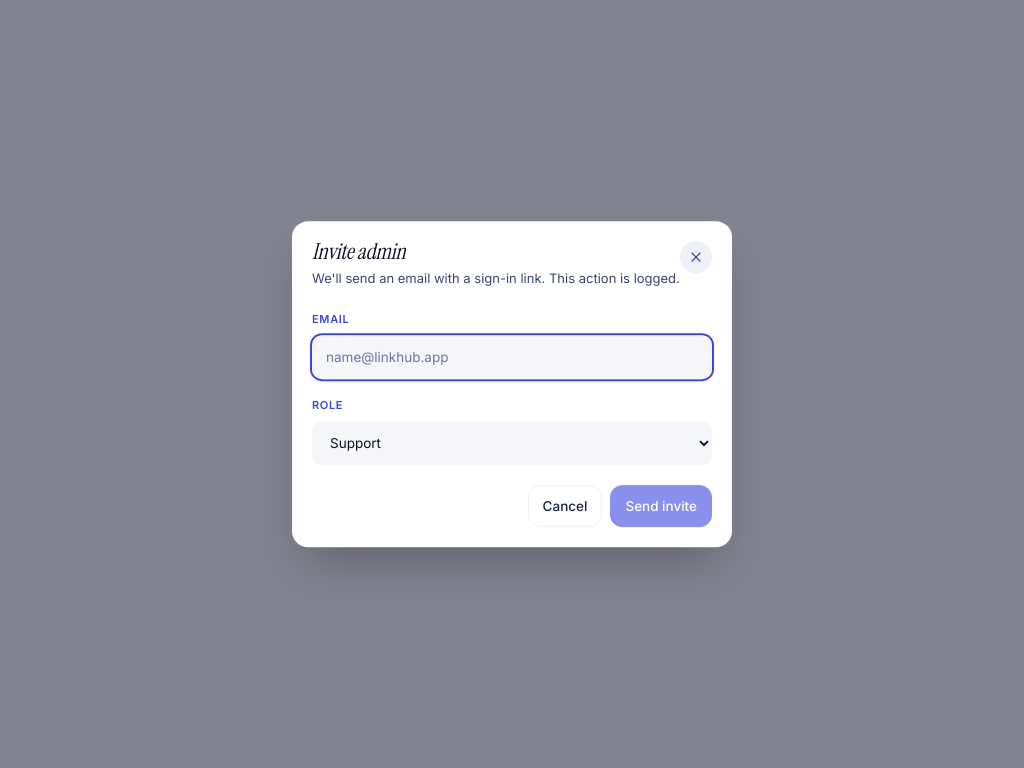
it: InviteAdminModal › disables Send invite until a valid email is entered
The width and height of the screenshot is (1024, 768).
Expected: the button "Send invite" is disabled, [610,485,712,527]
Type "not-an-email" into the field with placeholder "name@linkhub.app" at (512, 357), box [312,335,712,379]
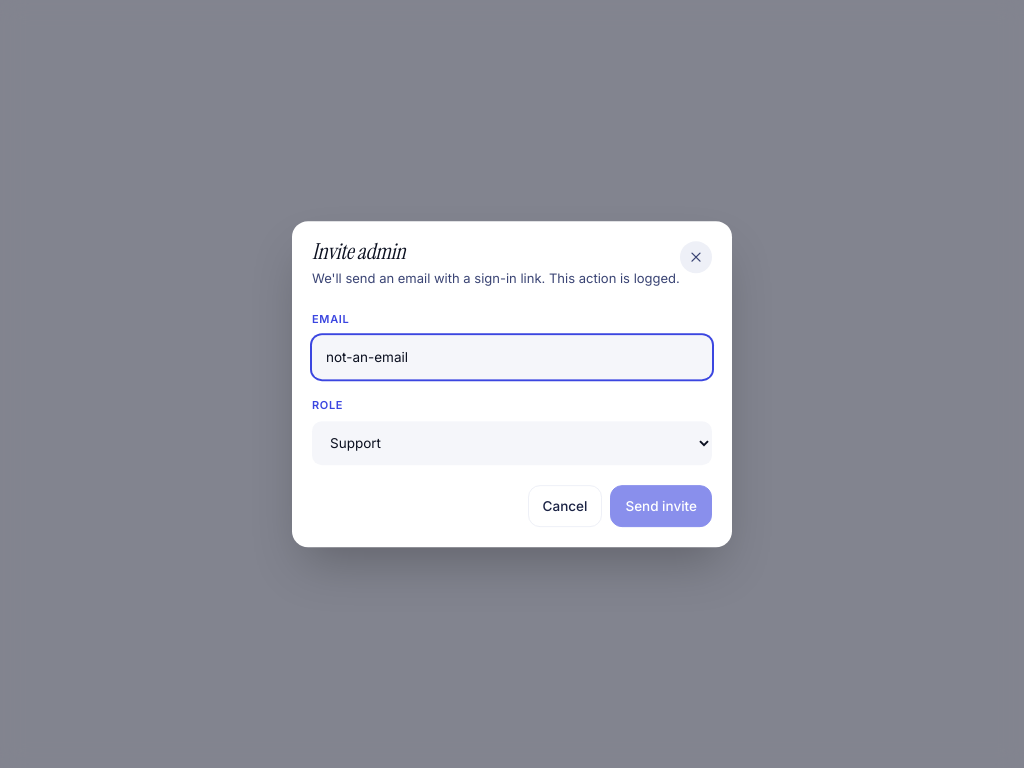
Expected: the button "Send invite" is disabled, [610,485,712,527]
Replace the text in the field with placeholder "name@linkhub.app" with "kojo@linkhub.app" at (512, 357), box [312,335,712,379]
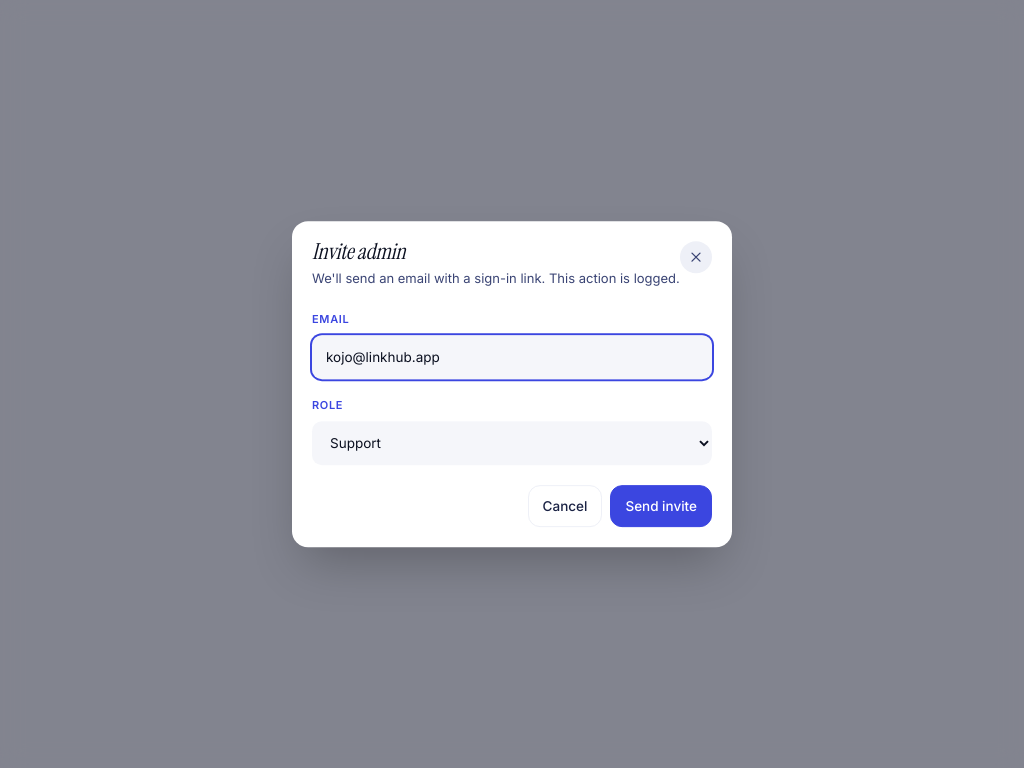
Now the button "Send invite" is enabled, box [610,485,712,527]
